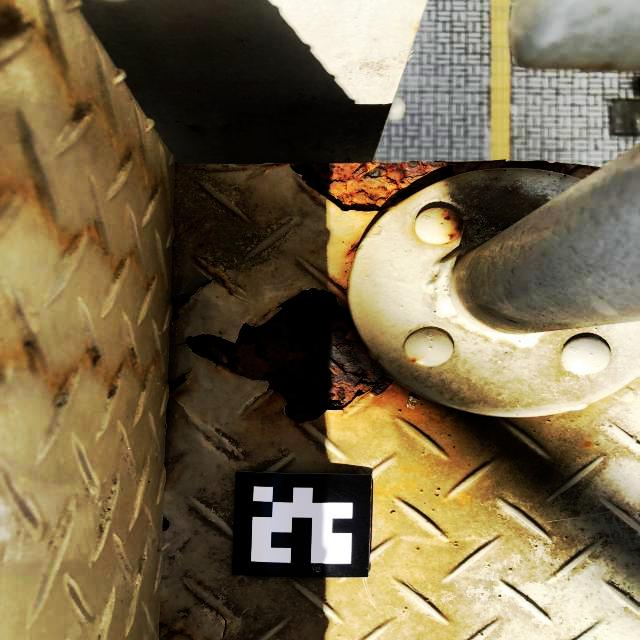Corrosion: (186, 288, 393, 422), (291, 159, 600, 210), (169, 276, 218, 325), (167, 370, 191, 394), (447, 223, 463, 243), (346, 241, 362, 255), (443, 215, 452, 222)
